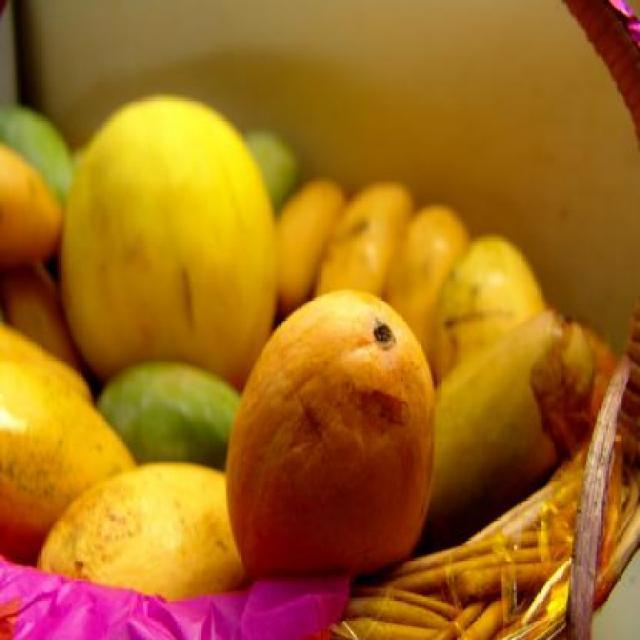Mango: (0, 96, 592, 596), (53, 90, 281, 402), (225, 288, 433, 582)
